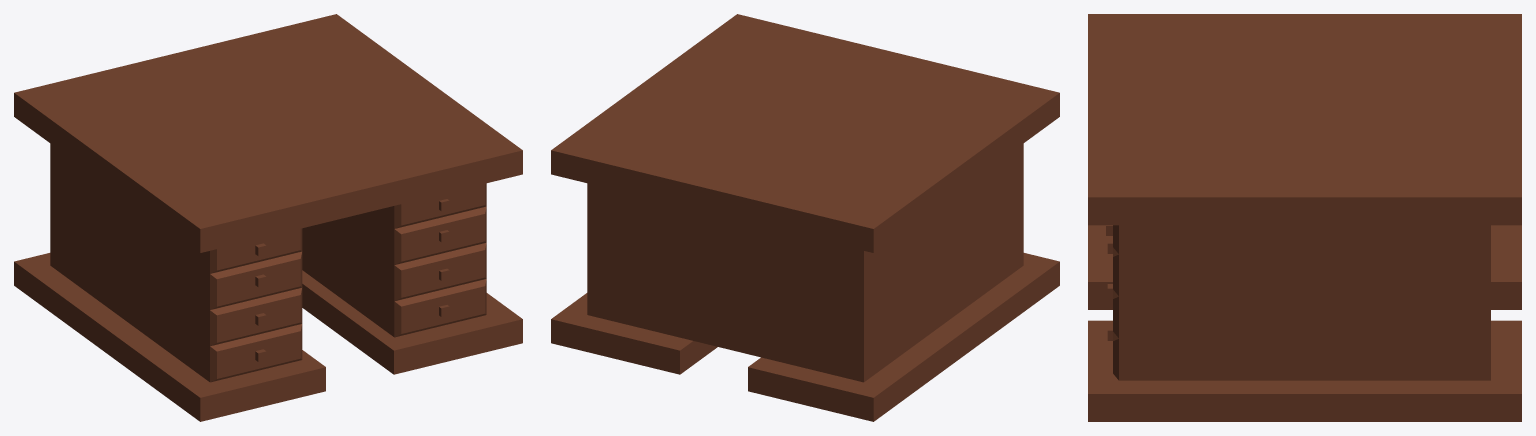
Rendered from desk1.fbx.
3 views of the same model, side by side, from view 1: azimuth 30°, elevation 25°; view 2: azimuth 150°, elevation 25°; view 3: azimuth 270°, elevation 25° (orthographic). The views are drawn at different scales.
Visible parts, largest first — view 1: Cube.003; view 2: Cube.003; view 3: Cube.003.
Part boxes in pixels (left/top/right/bottom): Cube.003: left=14, top=14, right=522, bottom=421; Cube.003: left=551, top=14, right=1059, bottom=421; Cube.003: left=1088, top=14, right=1521, bottom=421.
Size of the model in its own units: 140 by 80 by 140.
